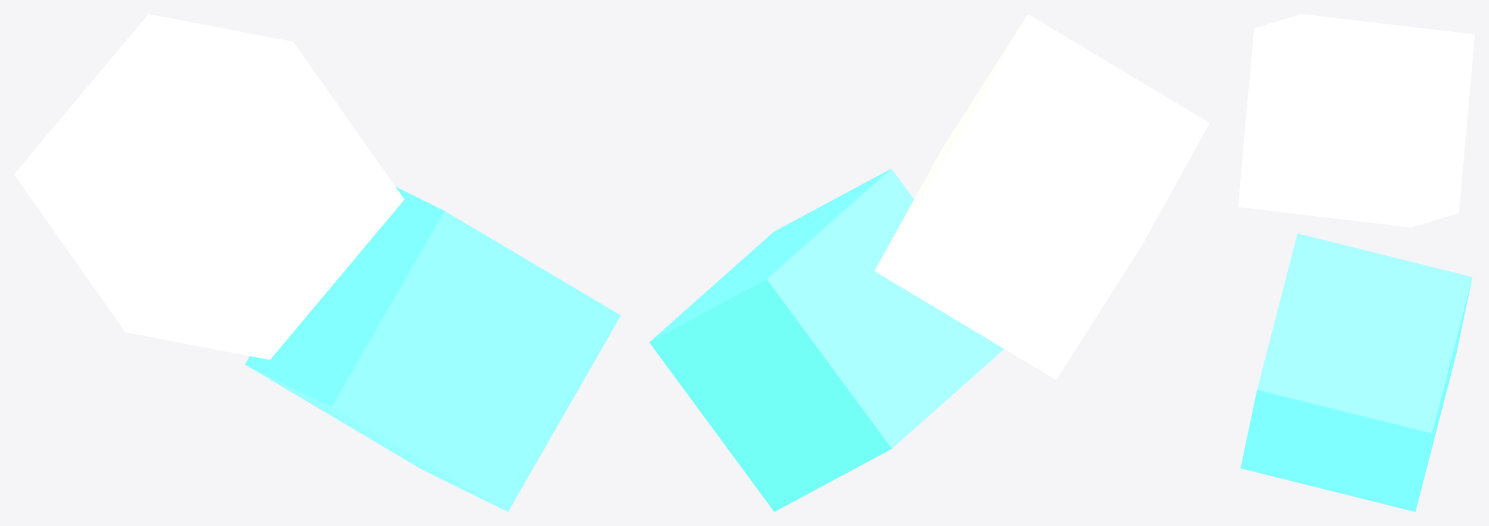
Rendered from silver_out.gltf.
The picture shows the model from 3 angles, left to right: view 1: azimuth 30°, elevation 25°; view 2: azimuth 150°, elevation 25°; view 3: azimuth 270°, elevation 25°; orthographic projection. The views are drawn at different scales.
Parts seen in each view (by area): view 1: particle.160, particle.180; view 2: particle.160, particle.180; view 3: particle.180, particle.160.
Boxes of the visible parts, x1=… form: particle.160: x1=14, y1=14, x2=404, y2=359; particle.180: x1=245, y1=187, x2=620, y2=511; particle.160: x1=874, y1=14, x2=1209, y2=379; particle.180: x1=649, y1=168, x2=1003, y2=511; particle.180: x1=1240, y1=233, x2=1472, y2=511; particle.160: x1=1238, y1=14, x2=1474, y2=227.
Size of what is drawn, in the model's own units: 0.2664 by 0.2572 by 0.1313.
